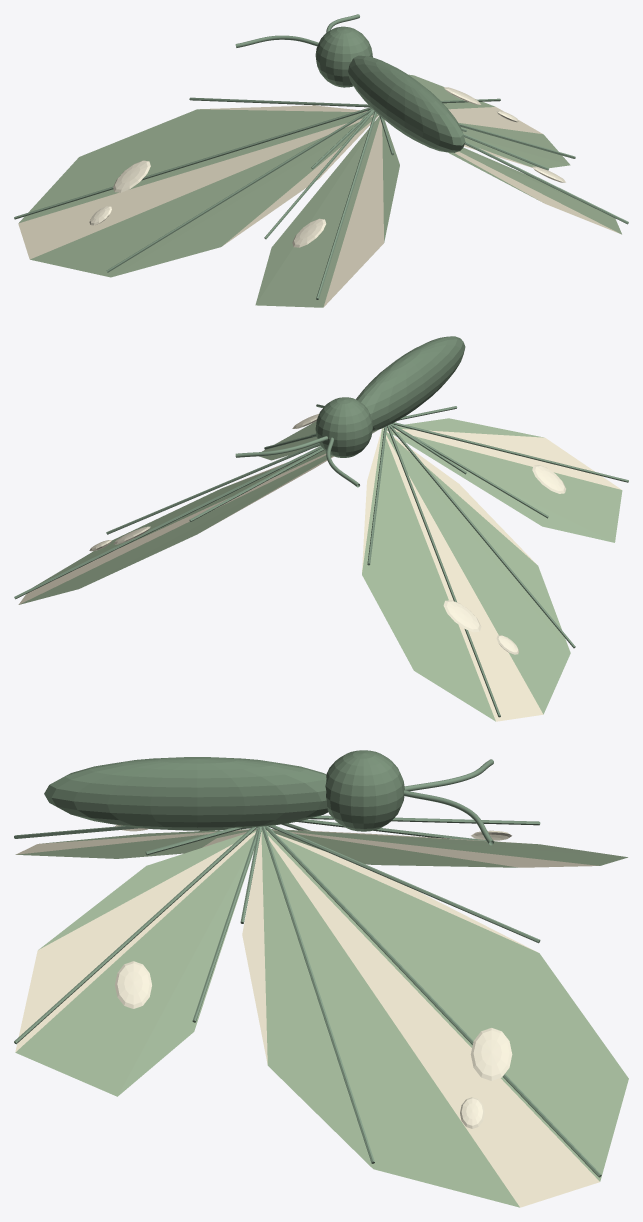
Rendered from butterfly.glb.
3 renders of one model, top to bottom at view 1: azimuth 30°, elevation 25°; view 2: azimuth 150°, elevation 25°; view 3: azimuth 270°, elevation 25°, orthographic. The views are drawn at different scales.
Visible parts, largest first — view 1: Left forewing, Left hindwing, Butterfly abdomen, Right forewing, Right hindwing, Butterfly head, Left forewing vein 4, Left forewing vein 6, Left forewing champagne spot 0, Left hindwing vein 4, Left forewing vein 2, Right hindwing vein 4 (+2 smaller); view 2: Left forewing, Left hindwing, Right forewing, Butterfly abdomen, Butterfly head, Right forewing vein 4, Left forewing vein 4, Left forewing vein 6, Left hindwing vein 4, Right forewing vein 6, Right hindwing, Left forewing champagne spot 0 (+1 smaller); view 3: Right forewing, Right hindwing, Butterfly abdomen, Left forewing, Butterfly head, Left hindwing, Right forewing vein 4, Right forewing champagne spot 0, Right forewing vein 6, Right hindwing vein 4, Right hindwing champagne spot 0, Right forewing vein 2 (+3 smaller).
Part boxes in pixels (x1,y1,x2,y2): Left forewing: [18, 105, 378, 277]; Left hindwing: [255, 116, 399, 307]; Butterfly abdomen: [348, 55, 465, 152]; Right forewing: [408, 74, 570, 168]; Right hindwing: [448, 147, 621, 234]; Butterfly head: [315, 26, 372, 87]; Left forewing vein 4: [14, 107, 371, 219]; Left forewing vein 6: [106, 108, 372, 272]; Left forewing champagne spot 0: [113, 160, 150, 192]; Left hindwing vein 4: [316, 111, 376, 299]; Left forewing vein 2: [189, 97, 370, 107]; Right hindwing vein 4: [465, 141, 628, 224]; Left forewing: [362, 428, 570, 721]; Left hindwing: [383, 418, 622, 542]; Right forewing: [18, 429, 378, 604]; Butterfly abdomen: [356, 336, 465, 431]; Butterfly head: [315, 397, 373, 457]; Right forewing vein 4: [14, 446, 322, 599]; Left forewing vein 4: [387, 425, 500, 717]; Left forewing vein 6: [389, 424, 575, 648]; Left hindwing vein 4: [392, 422, 628, 482]; Right forewing vein 6: [106, 443, 320, 534]; Right hindwing: [259, 421, 320, 460]; Left forewing champagne spot 0: [443, 600, 481, 632]; Right forewing: [242, 829, 628, 1207]; Right hindwing: [15, 830, 256, 1096]; Butterfly abdomen: [44, 757, 328, 830]; Left forewing: [266, 829, 627, 867]; Butterfly head: [325, 750, 404, 831]; Left hindwing: [15, 828, 256, 858]; Right forewing vein 4: [265, 826, 601, 1177]; Right forewing champagne spot 0: [470, 1028, 512, 1080]; Right forewing vein 6: [262, 826, 374, 1163]; Right hindwing vein 4: [14, 827, 257, 1044]; Right hindwing champagne spot 0: [115, 961, 151, 1008]; Right forewing vein 2: [268, 825, 540, 943].
Bounding box in the file's own units: 2.52 × 0.982 × 1.92.
